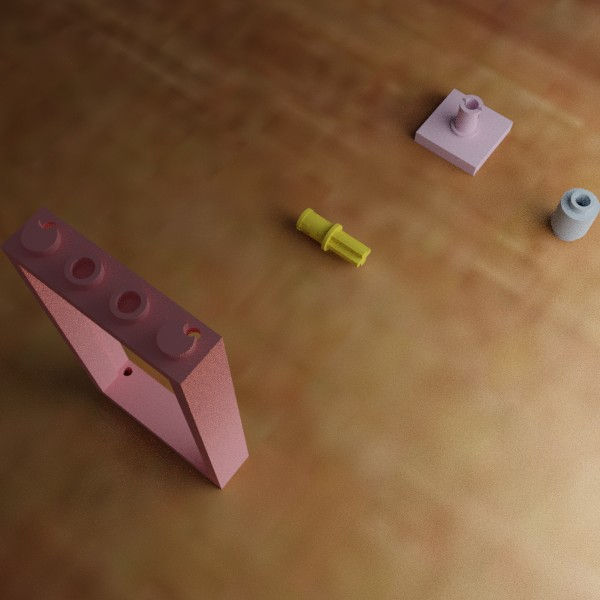lego: (0, 205, 248, 489), (414, 88, 513, 176), (296, 208, 370, 267), (550, 188, 600, 241)
